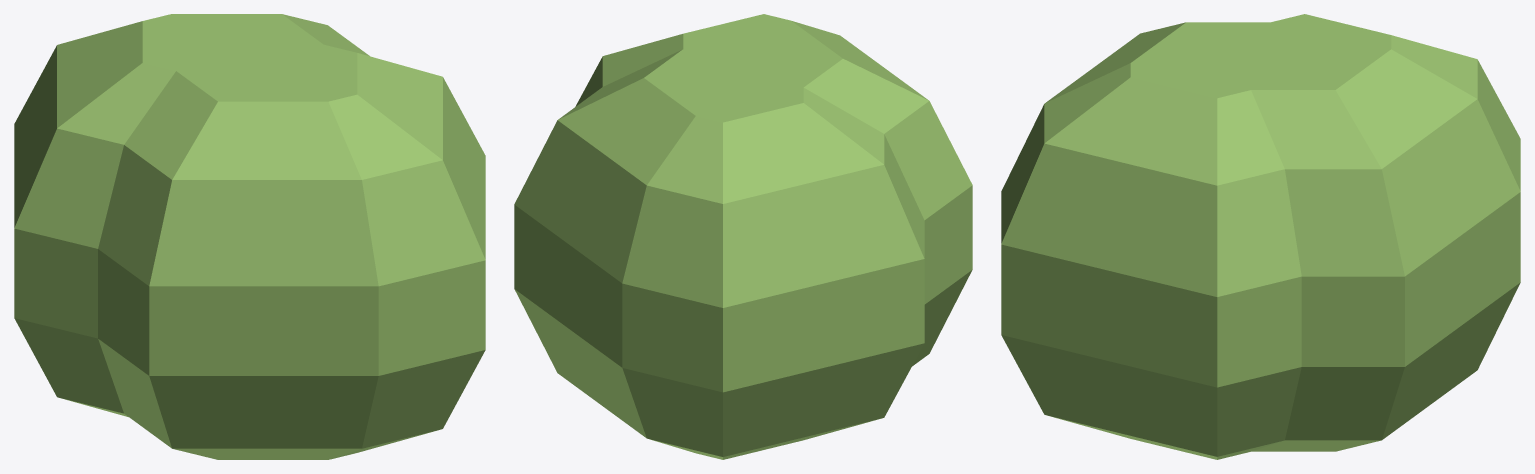
The model's file is Hilly_Prop_Bush_4.glb.
The picture shows the model from 3 angles, left to right: view 1: azimuth 30°, elevation 25°; view 2: azimuth 150°, elevation 25°; view 3: azimuth 270°, elevation 25°; orthographic projection. The views are drawn at different scales.
Visible parts, largest first — view 1: Hilly_Prop_Bush_4; view 2: Hilly_Prop_Bush_4; view 3: Hilly_Prop_Bush_4.
Boxes of the visible parts, x1=… form: Hilly_Prop_Bush_4: x1=14, y1=14, x2=485, y2=459; Hilly_Prop_Bush_4: x1=514, y1=14, x2=972, y2=459; Hilly_Prop_Bush_4: x1=1001, y1=14, x2=1520, y2=459.
Bounding box in the file's own units: 1 × 0.8 × 1.04.
